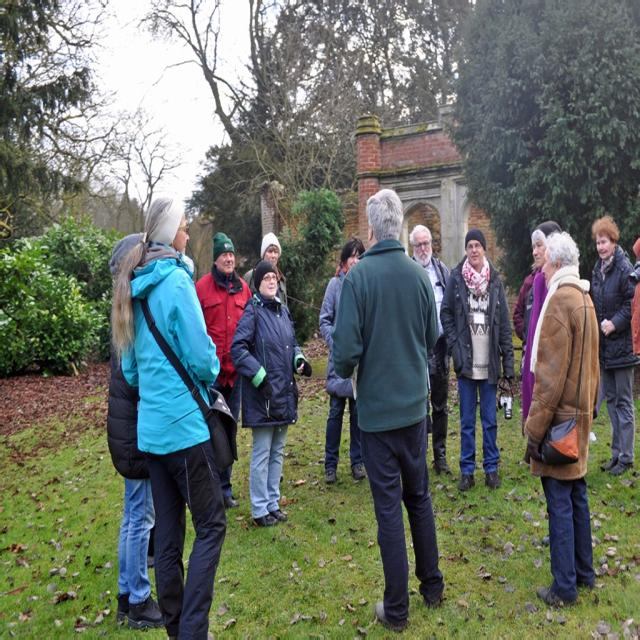body: (331, 187, 448, 635), (111, 194, 228, 639), (522, 231, 600, 610), (106, 232, 166, 630), (228, 258, 313, 532), (438, 228, 513, 492), (193, 231, 253, 511), (590, 213, 640, 480), (318, 235, 368, 486), (407, 223, 452, 477), (520, 220, 563, 438), (242, 231, 290, 308), (515, 241, 533, 352), (632, 230, 639, 442)
